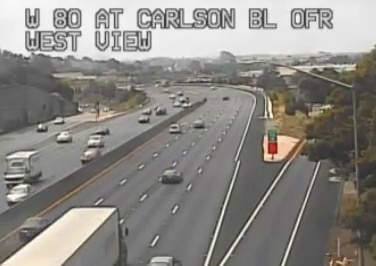car: (20, 217, 50, 239), (162, 169, 183, 183), (168, 124, 180, 134)
truck: (1, 207, 125, 266)
